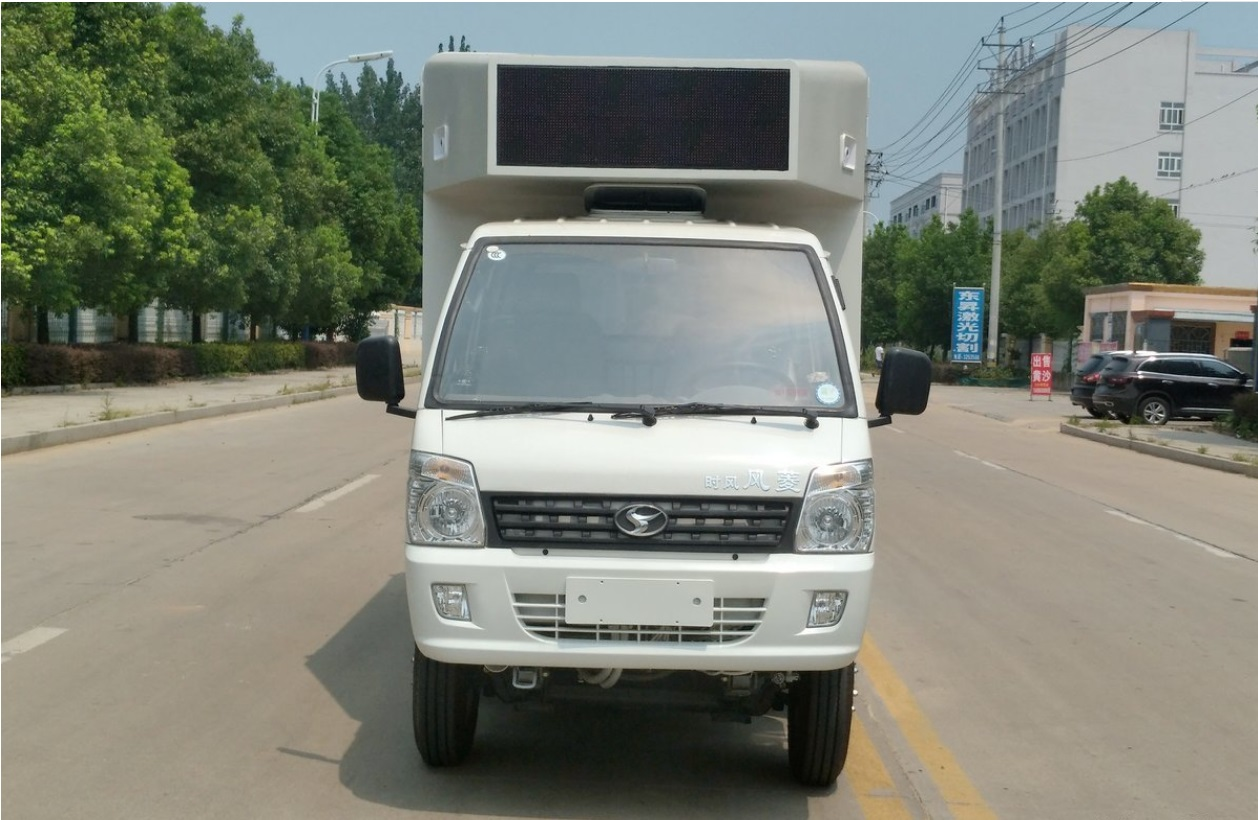truck: (351, 49, 934, 793)
